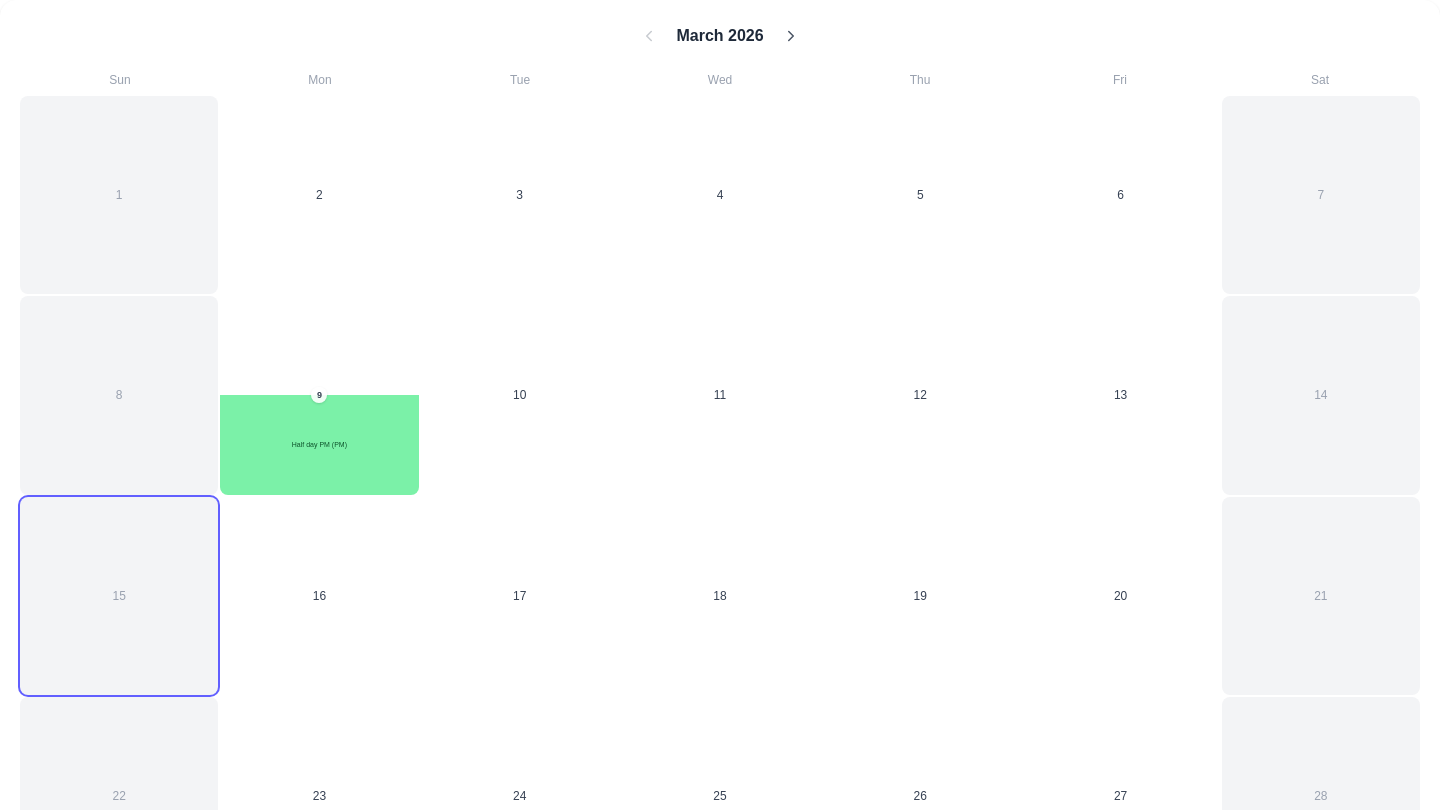
Test: CalendarView — half-day popover shows duration label › shows 'Half day (PM)' for a PM half-day entry in the popover
The image size is (1440, 810).
What coordinates should you click on to do the following:
click the text "Half day PM (PM)"
I would click on:
 (319, 444)
Its box is [292,441,347,448].
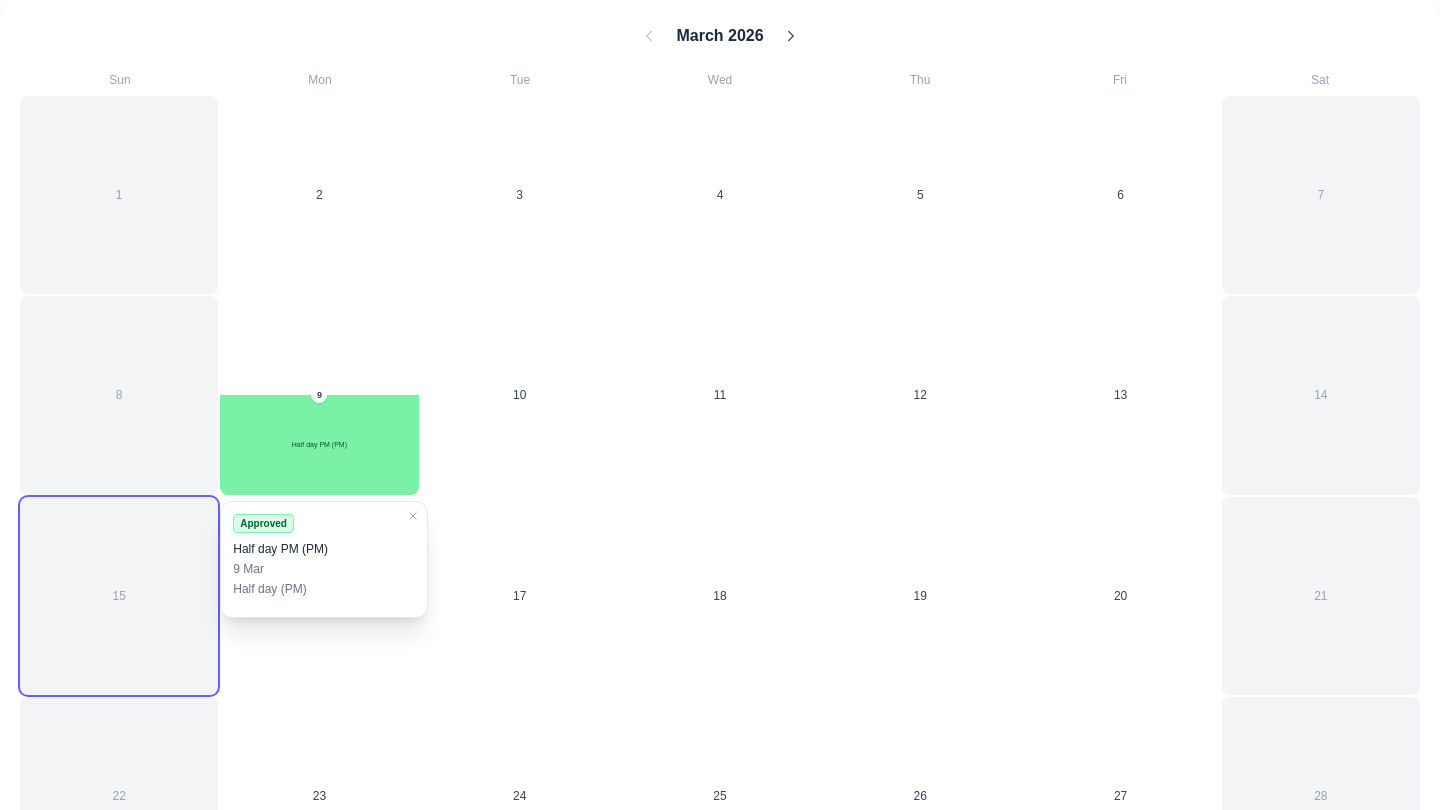
Check: the tooltip "Approved Half day PM (PM) 9 Mar Half day (PM)" is shown, box [220,501,428,618]
Check: the text "Half day (PM)" is shown, box [233,582,307,596]
